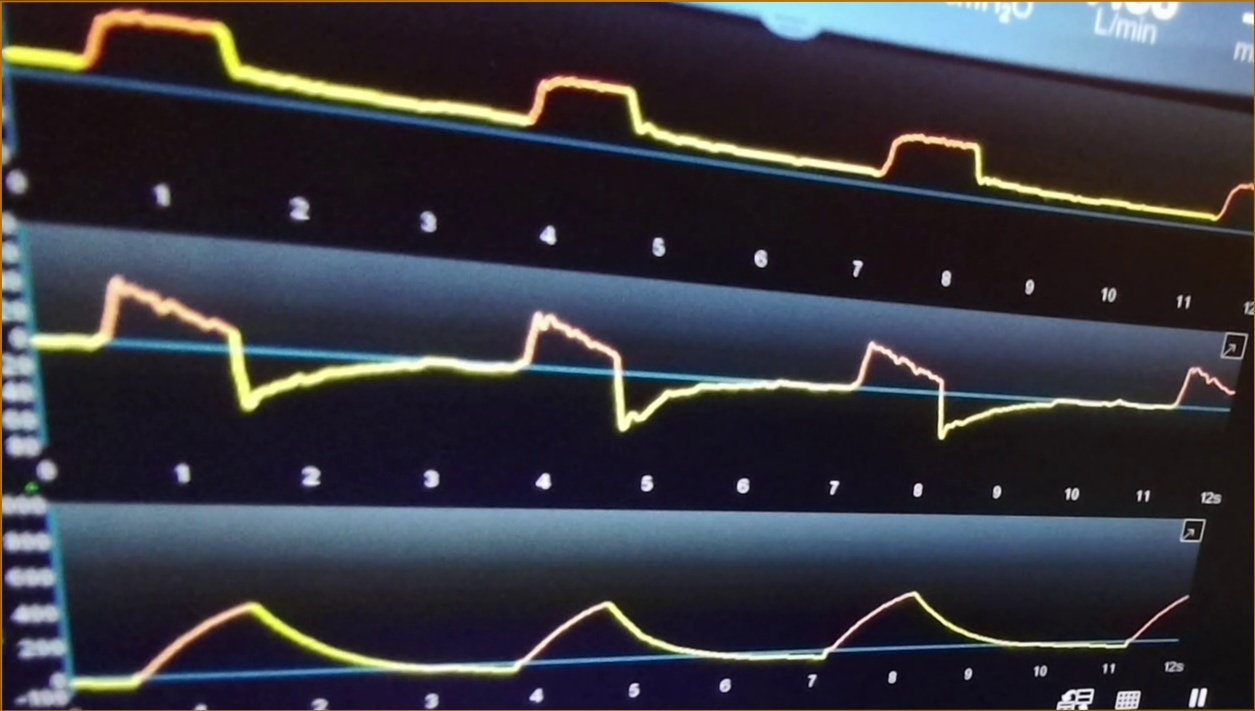Accumulation Flow: (49, 274, 1233, 441)
Volume: (80, 570, 1188, 694)
